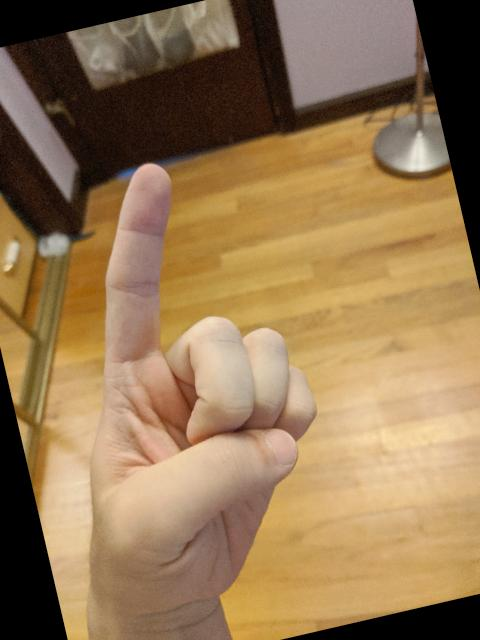D: (0, 132, 362, 633)
